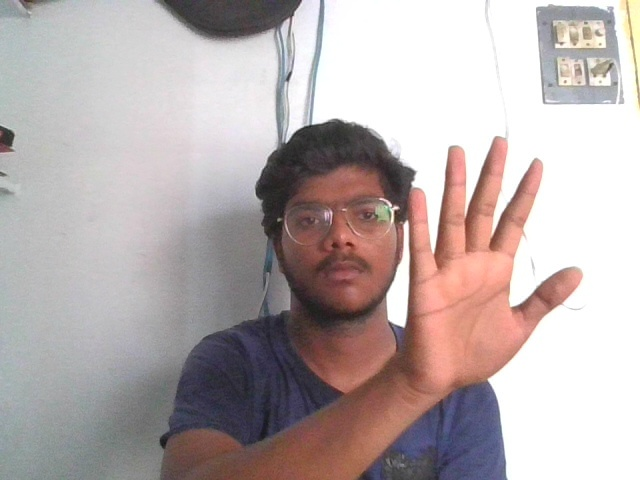Hello: (398, 132, 583, 387)
